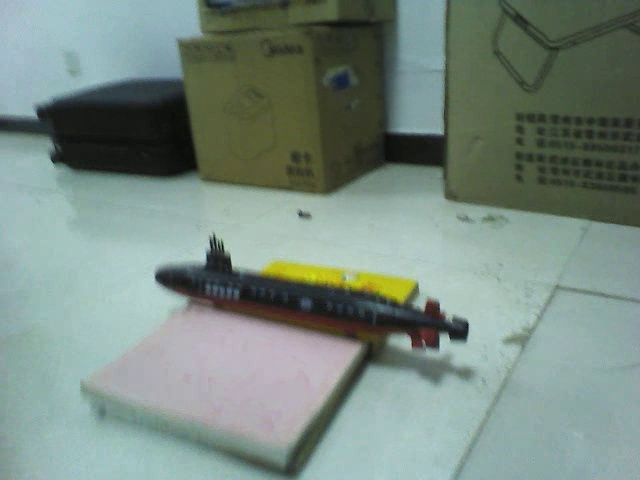submarine: (147, 230, 471, 346)
